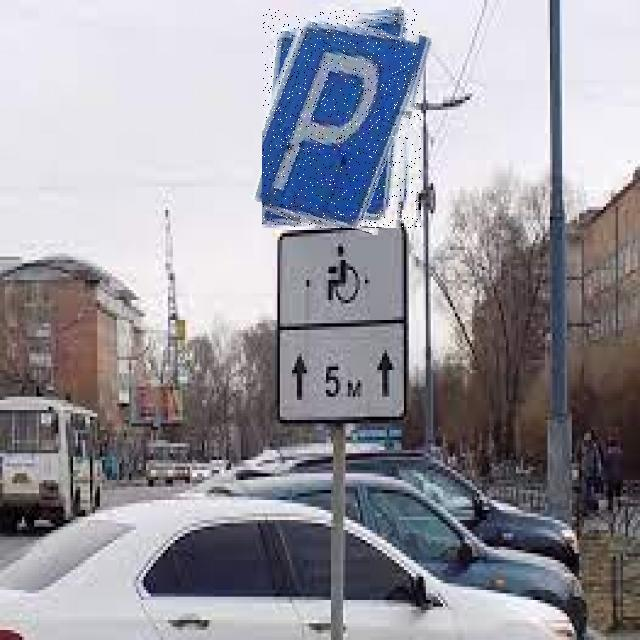parking: (262, 9, 421, 228)
